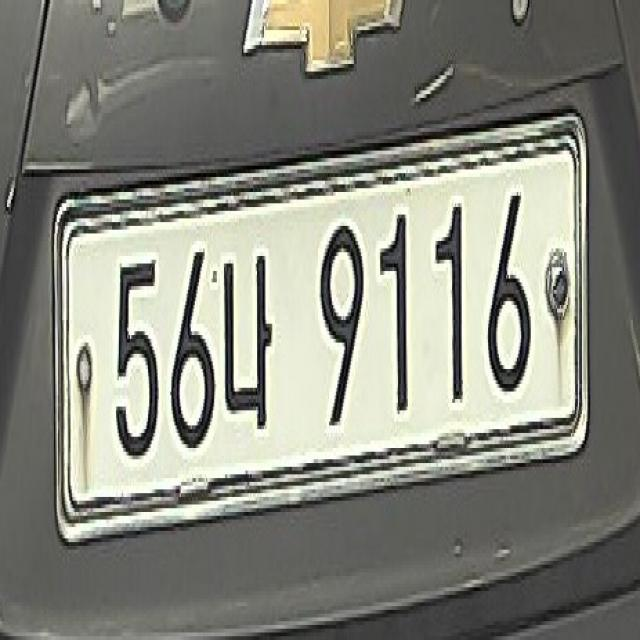1: (373, 198, 417, 424), (432, 186, 468, 408)
5: (114, 243, 160, 462)
6: (167, 229, 217, 459), (484, 171, 534, 399)
9: (315, 204, 366, 436)
license_plate: (45, 92, 603, 573)
na: (221, 245, 280, 440)
